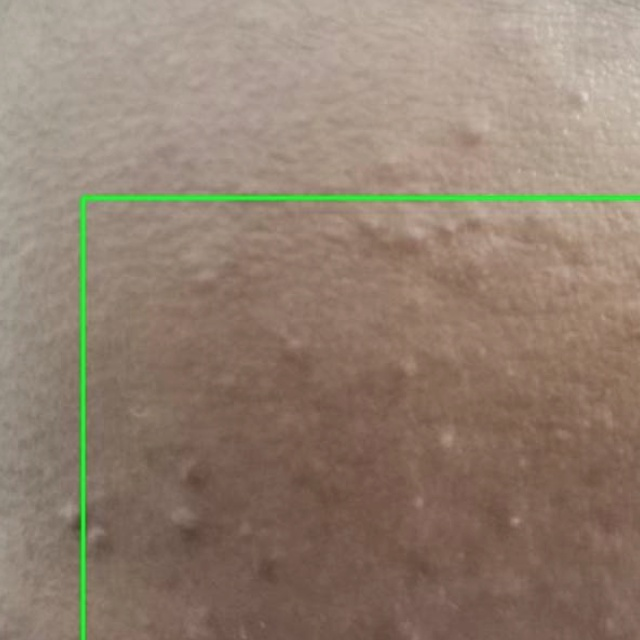Eczema: (83, 197, 639, 639)
